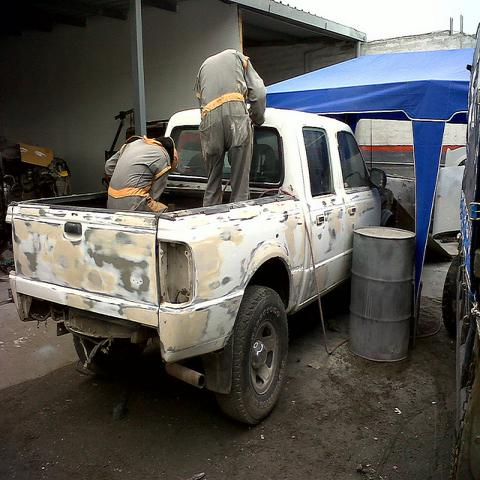truck: (6, 104, 396, 426)
